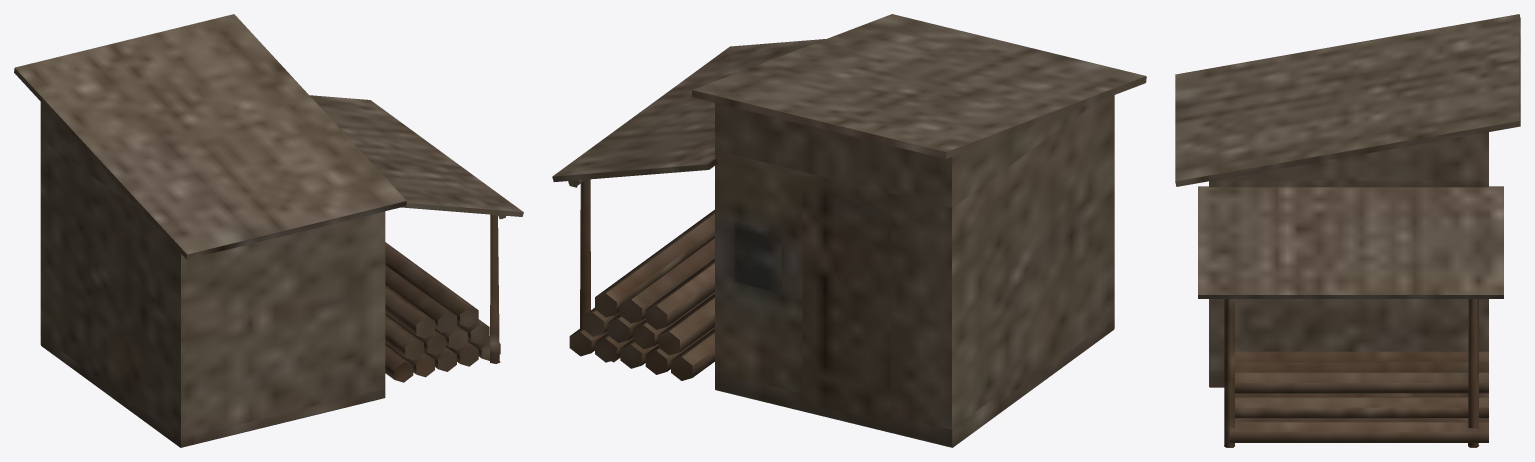
The model's file is b_lumber_xfar.glb.
3 views of the same model, side by side, from view 1: azimuth 30°, elevation 25°; view 2: azimuth 150°, elevation 25°; view 3: azimuth 270°, elevation 25° (orthographic). The views are drawn at different scales.
Visible parts, largest first — view 1: b_lumber_xfar; view 2: b_lumber_xfar; view 3: b_lumber_xfar.
Boxes of the visible parts, x1,y1,x2,y2 form: b_lumber_xfar: [14, 14, 523, 447]; b_lumber_xfar: [552, 14, 1146, 447]; b_lumber_xfar: [1175, 14, 1520, 447].
Bounding box in the file's own units: 3.87 × 2.86 × 3.33.
Materials: 1 (1 with a texture image).
